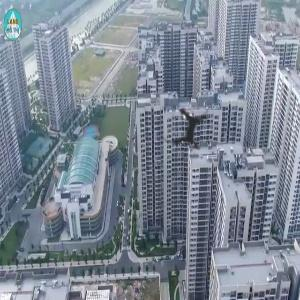drone: (141, 84, 239, 182)
